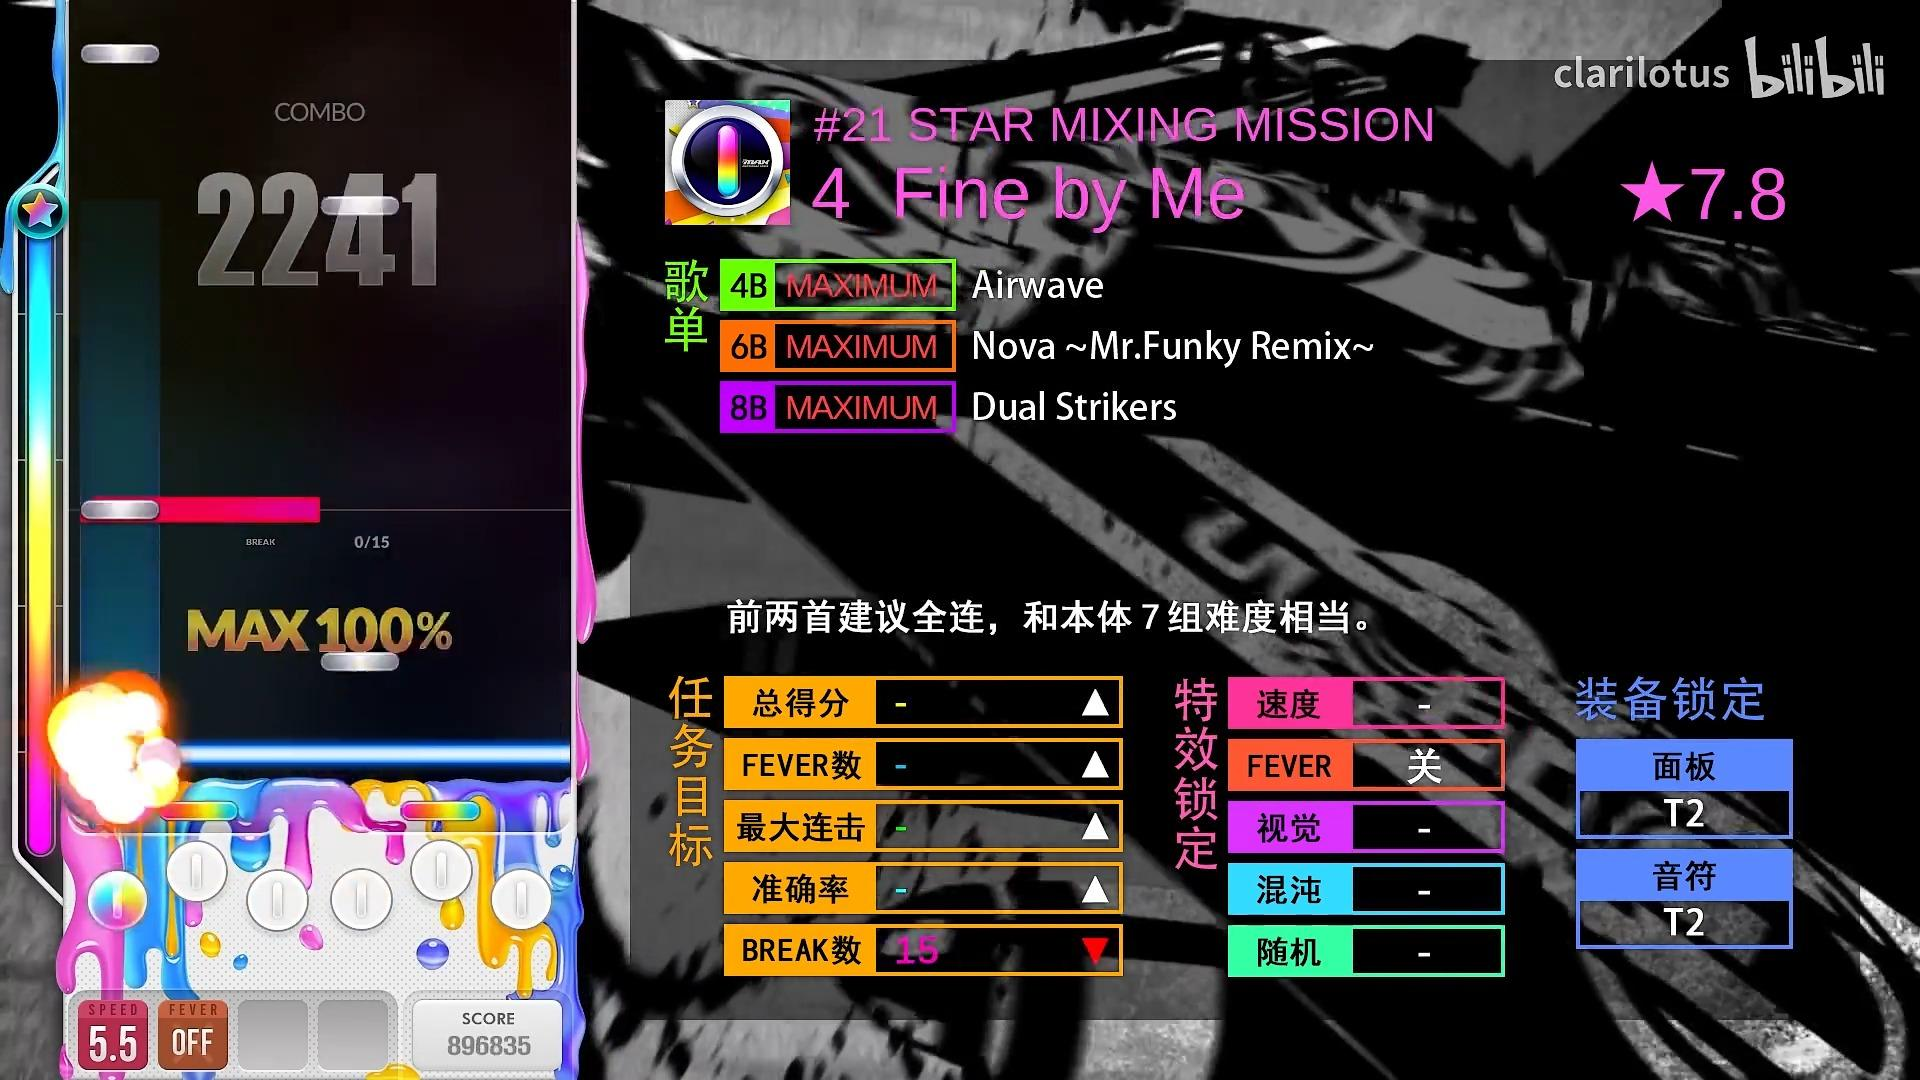note: (82, 498, 161, 521), (320, 195, 400, 216), (80, 45, 160, 65), (322, 651, 398, 671)
xnote: (80, 496, 320, 522)
